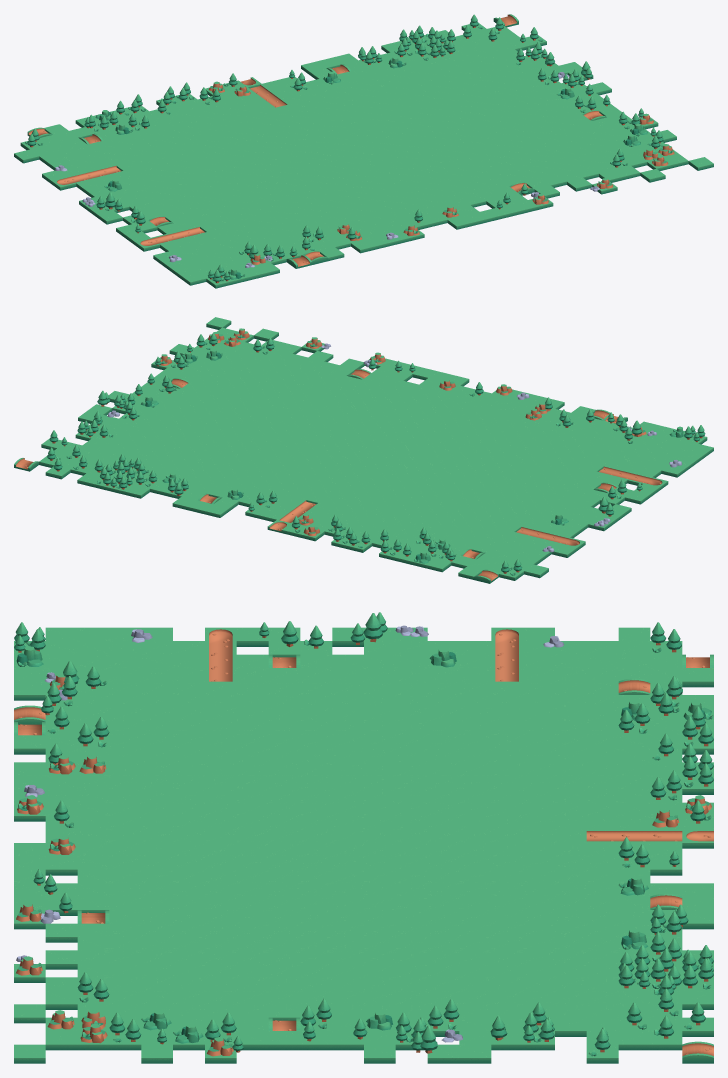
The model's file is ground.glb.
3 views of the same model, one above another, from view 1: azimuth 30°, elevation 25°; view 2: azimuth 150°, elevation 25°; view 3: azimuth 270°, elevation 25° (orthographic). The views are drawn at different scales.
Parts seen in each view (by area): view 1: ground; view 2: ground; view 3: ground.
Part boxes in pixels (x1,y1,x2,y2): ground: (14, 14, 713, 288); ground: (14, 317, 713, 583); ground: (14, 612, 713, 1063).
Size of the model in its own units: 32 by 1.15 by 22.
Materials: 12 (12 with a texture image).
